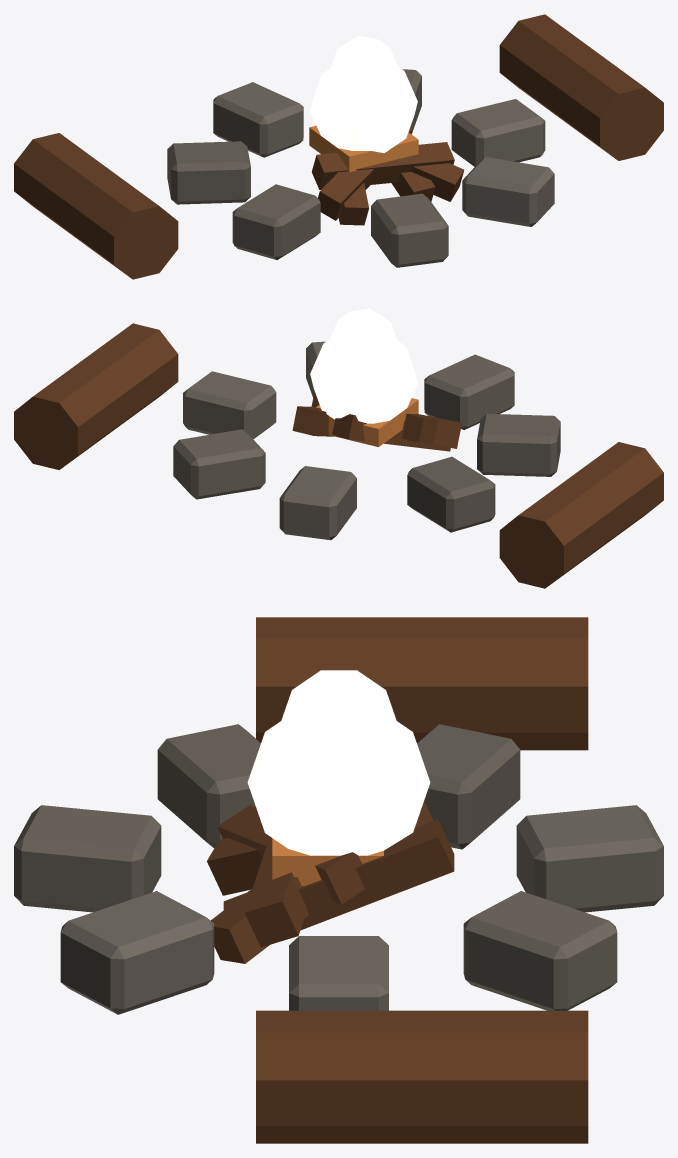
Rendered from SceneCampfire.glb.
3 views of the same model, one above another, from view 1: azimuth 30°, elevation 25°; view 2: azimuth 150°, elevation 25°; view 3: azimuth 270°, elevation 25° (orthographic). The views are drawn at different scales.
Parts seen in each view (by area): view 1: Body, Glow, Embers; view 2: Body, Glow, Embers; view 3: Body, Glow, Embers.
Boxes of the visible parts, bbox=[...] form: Body: bbox=[14, 14, 663, 279]; Glow: bbox=[310, 36, 417, 153]; Embers: bbox=[309, 125, 418, 172]; Body: bbox=[14, 323, 663, 588]; Glow: bbox=[310, 308, 417, 423]; Embers: bbox=[316, 398, 418, 446]; Body: bbox=[14, 617, 663, 1143]; Glow: bbox=[247, 670, 430, 855]; Embers: bbox=[272, 838, 383, 885].
Bounding box in the file's own units: 6.34 × 1.75 × 3.91.
